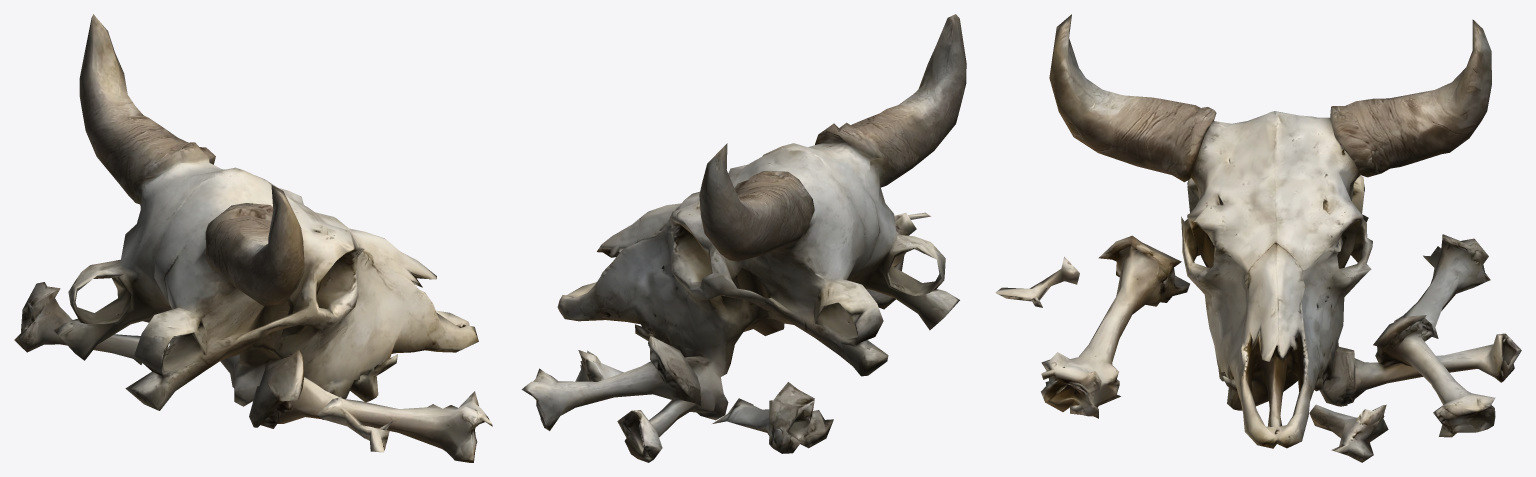
Rendered from ul_cow_bones.glb.
The picture shows the model from 3 angles, left to right: view 1: azimuth 30°, elevation 25°; view 2: azimuth 150°, elevation 25°; view 3: azimuth 270°, elevation 25°; orthographic projection. The views are drawn at different scales.
Visible parts, largest first — view 1: tripo_node_ffc9e969-e413-4d78-87b1-a7c42b5f3a41; view 2: tripo_node_ffc9e969-e413-4d78-87b1-a7c42b5f3a41; view 3: tripo_node_ffc9e969-e413-4d78-87b1-a7c42b5f3a41.
Part boxes in pixels (bbox=[...]): tripo_node_ffc9e969-e413-4d78-87b1-a7c42b5f3a41: bbox=[14, 14, 492, 462]; tripo_node_ffc9e969-e413-4d78-87b1-a7c42b5f3a41: bbox=[521, 14, 966, 462]; tripo_node_ffc9e969-e413-4d78-87b1-a7c42b5f3a41: bbox=[995, 14, 1521, 462].
Size of the model in its own units: 0.7949 by 0.7264 by 1.
Materials: 1 (1 with a texture image).
